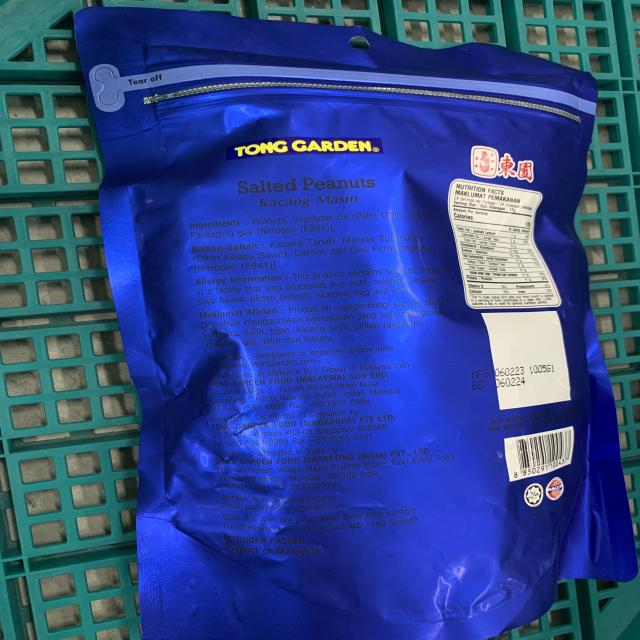object_name: (91, 22, 629, 623)
